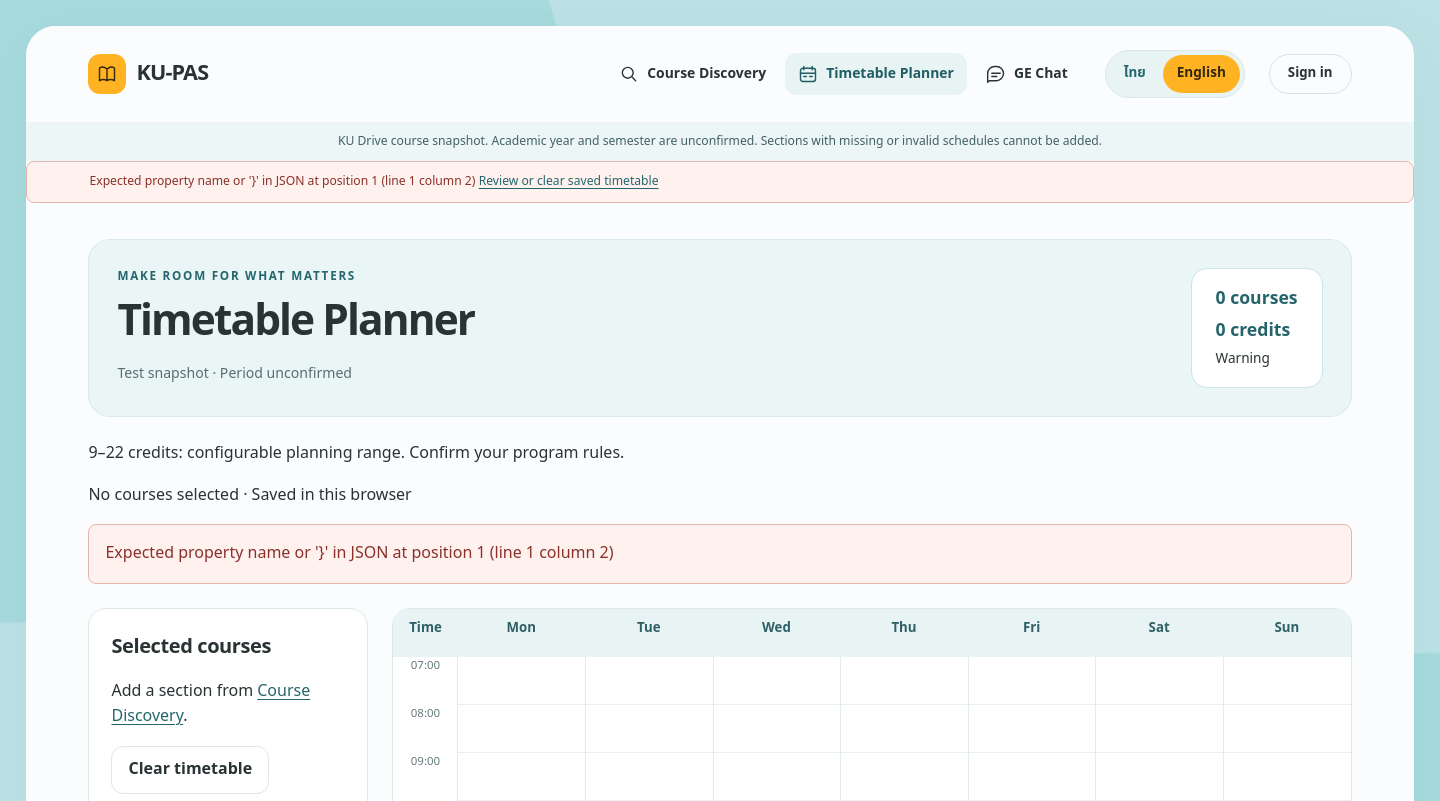
Test case: allows explicit recovery from damaged saved data
Expected: the 1st message is shown, x1=26 y1=161 x2=1414 y2=203
Click the button "Clear timetable" at (190, 770), box x1=112 y1=746 x2=269 y2=794
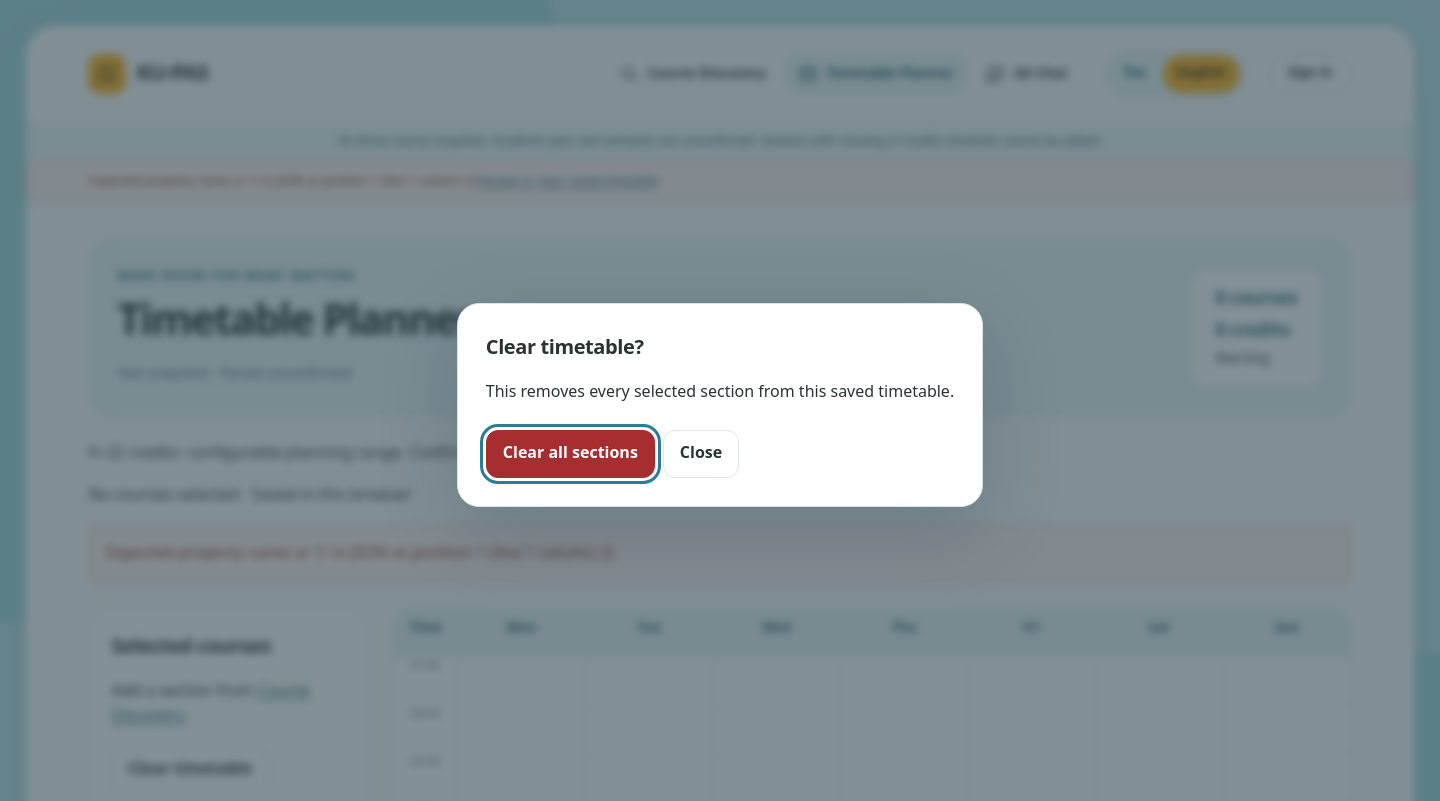
Click the button "Clear all sections" at (570, 454), box x1=486 y1=430 x2=655 y2=478
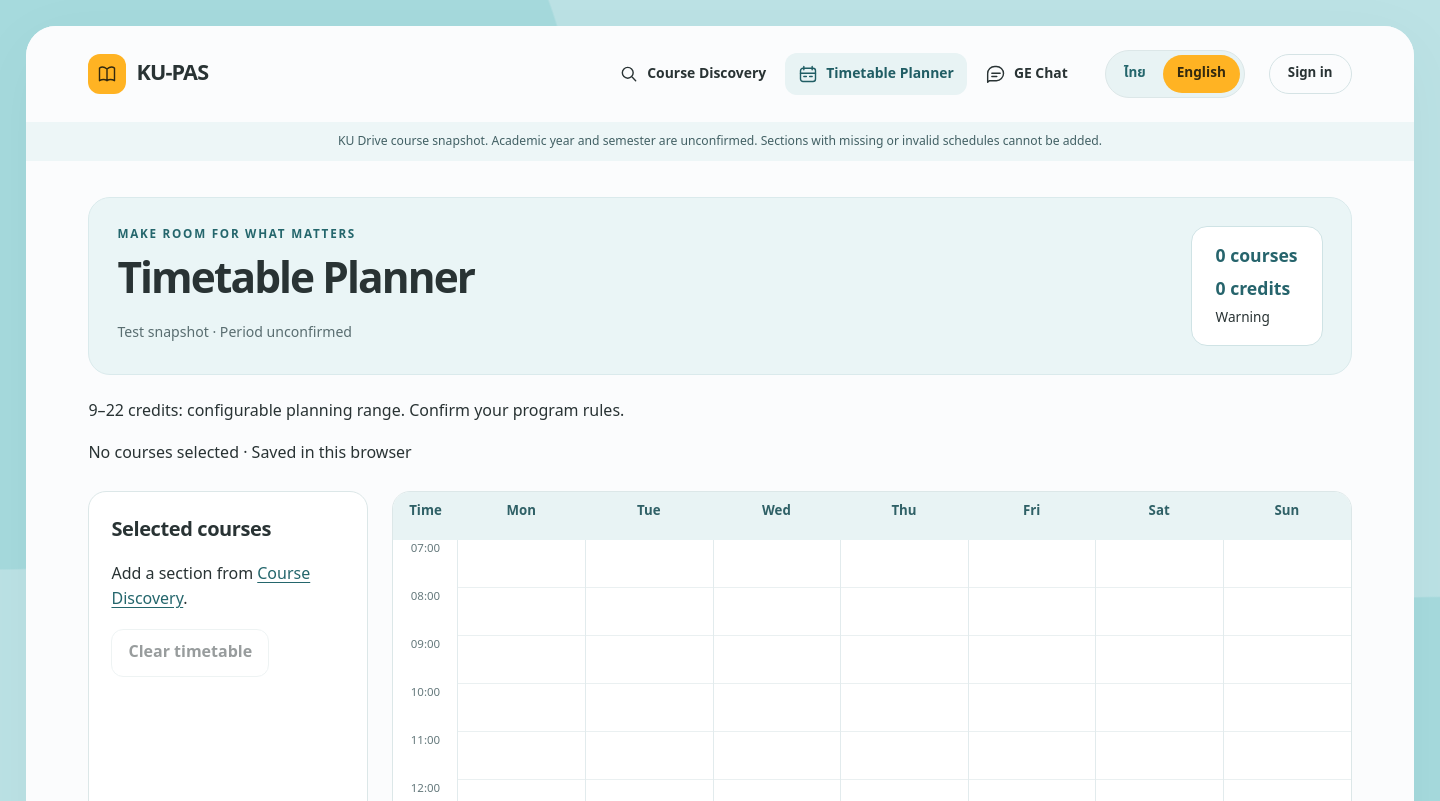
Expected: no messages are shown
